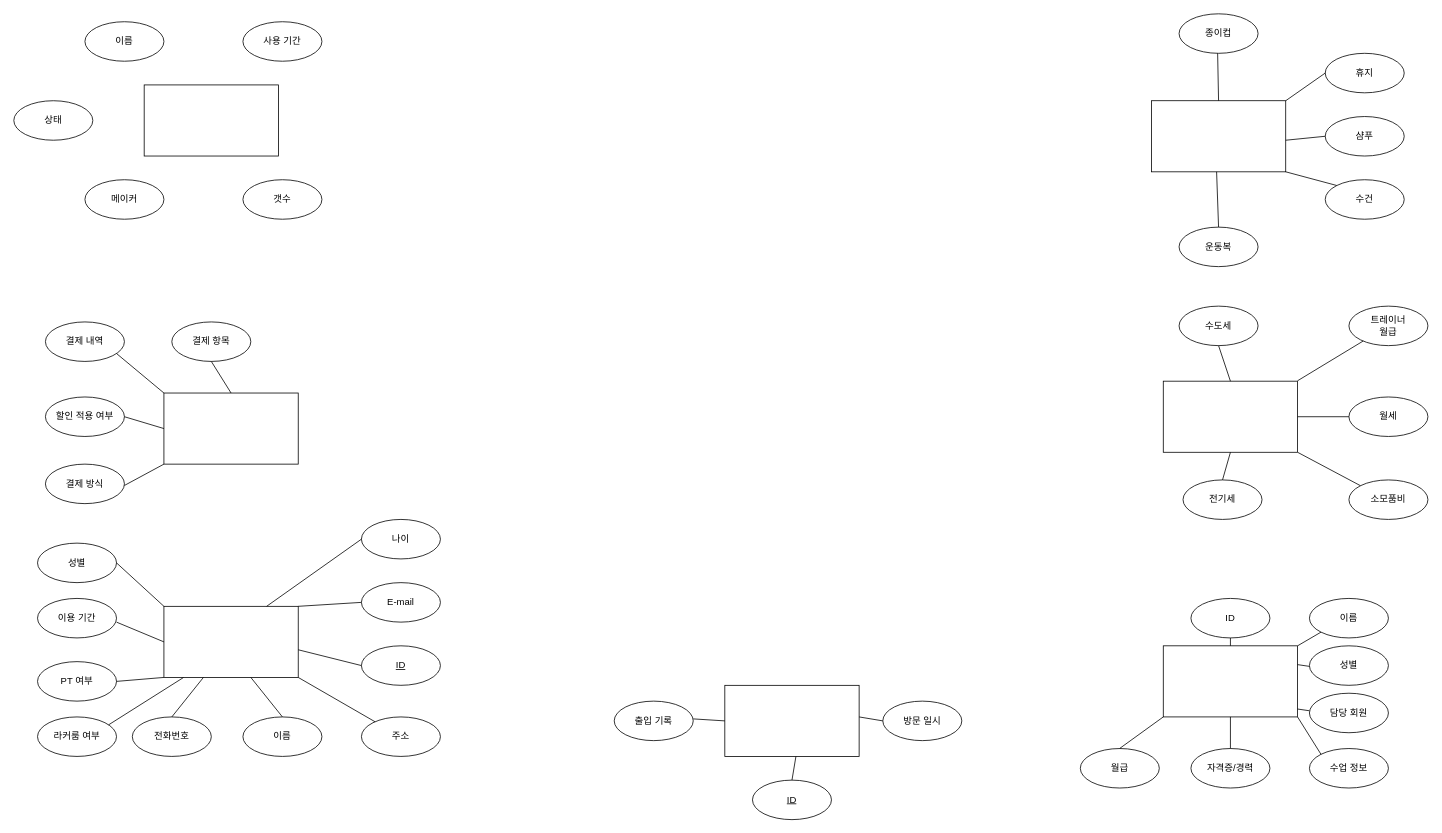
The diagram is 1442 pixels wide and 833 high, and some of its shapes have lost their labels. Each missing label, with the box of its shape:
결제 및 정산: (163, 392, 298, 464)
소모품: (1151, 100, 1286, 172)
운동기구: (143, 84, 278, 156)
유지비: (1162, 380, 1298, 452)
출입 관리: (724, 685, 859, 756)
트레이너 및 직원 정보: (1162, 645, 1298, 717)
회원정보: (163, 606, 298, 677)
